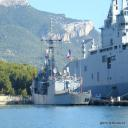Fragata: (31, 18, 93, 107)
